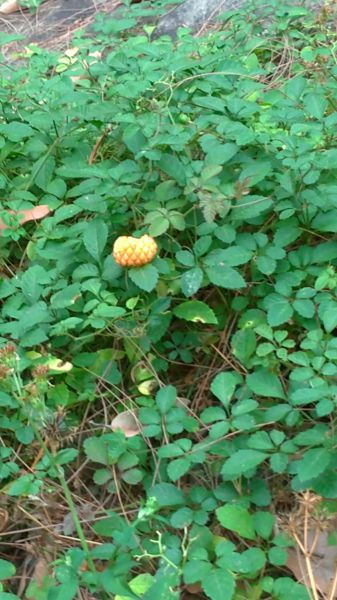eggs: (110, 231, 164, 269)
